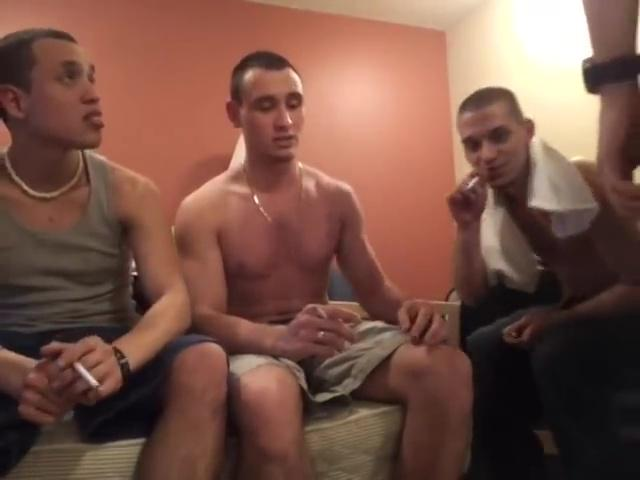cigarette: (72, 358, 104, 393), (464, 172, 486, 192), (314, 302, 328, 325)
